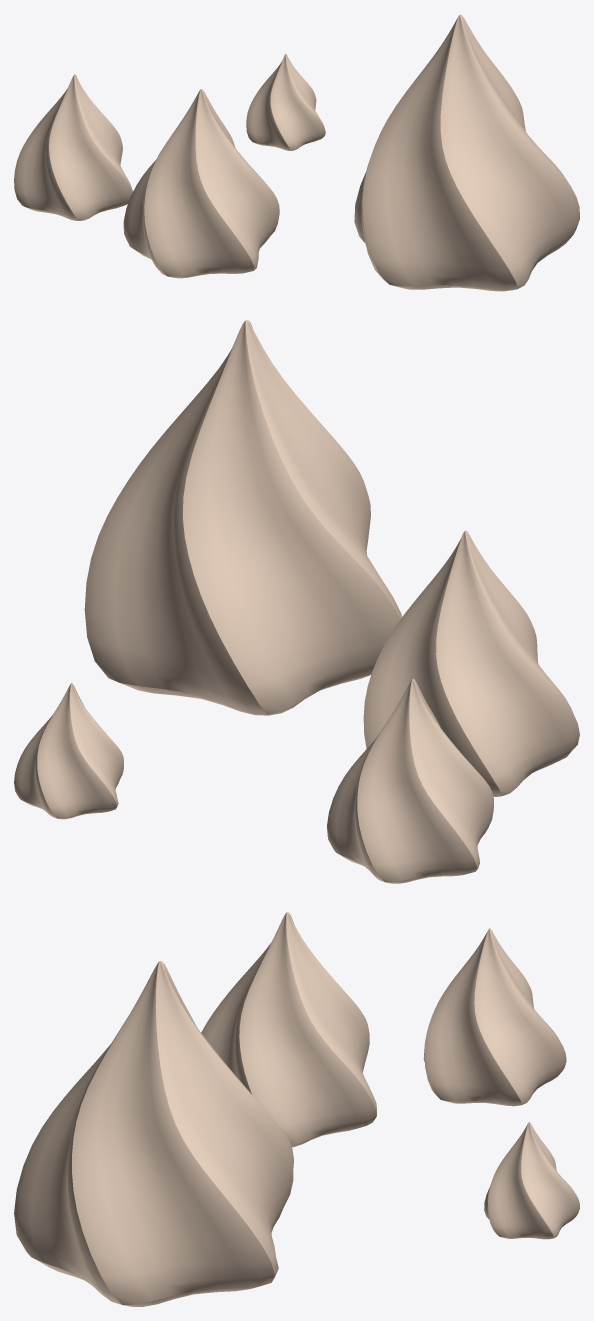
The model's file is cakeDecorGlaze.glb.
3 renders of one model, top to bottom at view 1: azimuth 30°, elevation 25°; view 2: azimuth 150°, elevation 25°; view 3: azimuth 270°, elevation 25°, orthographic. The views are drawn at different scales.
Parts seen in each view (by area): view 1: Star.025, Star.027, Star, Star.026; view 2: Star.025, Star.027, Star, Star.026; view 3: Star.025, Star.027, Star, Star.026.
Part boxes in pixels (<box>): Star.025: <box>354,14,579,291</box>; Star.027: <box>123,89,279,278</box>; Star: <box>14,74,132,220</box>; Star.026: <box>246,54,325,150</box>; Star.025: <box>84,320,402,715</box>; Star.027: <box>363,530,579,796</box>; Star: <box>327,679,493,883</box>; Star.026: <box>14,683,123,819</box>; Star.025: <box>14,961,293,1306</box>; Star.027: <box>201,912,376,1147</box>; Star: <box>423,928,566,1106</box>; Star.026: <box>484,1122,579,1239</box>.
Bounding box in the file's own units: 1.36 × 0.8013 × 1.35.
